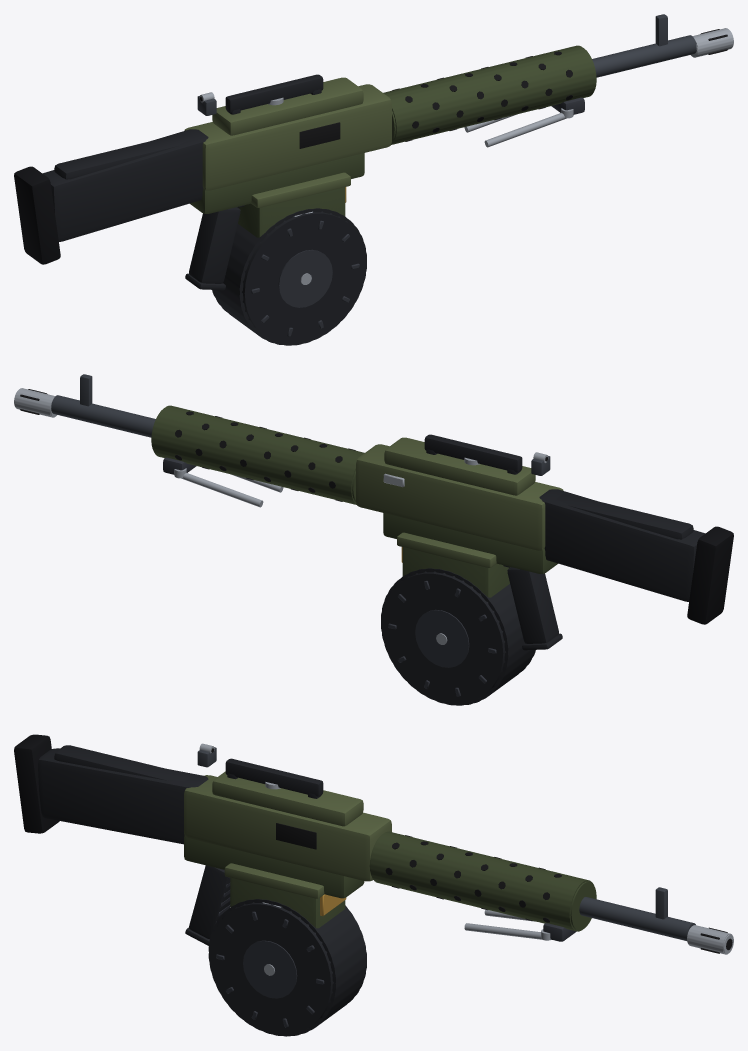
3 views of the same model, one above another, from view 1: azimuth 30°, elevation 25°; view 2: azimuth 150°, elevation 25°; view 3: azimuth 330°, elevation 25° (orthographic).
Visible parts, largest first — view 1: mg60_body, mag_drum, mg60_stock, mag_ext; view 2: mg60_body, mag_drum, mg60_stock, mag_ext, mag_std; view 3: mg60_body, mag_drum, mg60_stock, mag_ext, mag_std.
Boxes of the visible parts, x1,y1,x2,y2 form: mg60_body: (184,14,733,290); mag_drum: (212,208,366,345); mg60_stock: (14,129,208,264); mag_ext: (238,172,350,237); mg60_body: (14,374,563,650); mag_drum: (381,568,535,705); mg60_stock: (539,489,733,624); mag_ext: (397,532,510,597); mag_std: (401,547,496,597); mg60_body: (184,743,733,954); mag_drum: (208,899,366,1036); mg60_stock: (14,734,208,844); mag_ext: (224,863,345,924); mag_std: (230,879,346,928).
Bounding box in the file's own units: 1.05 × 0.3666 × 0.096.
